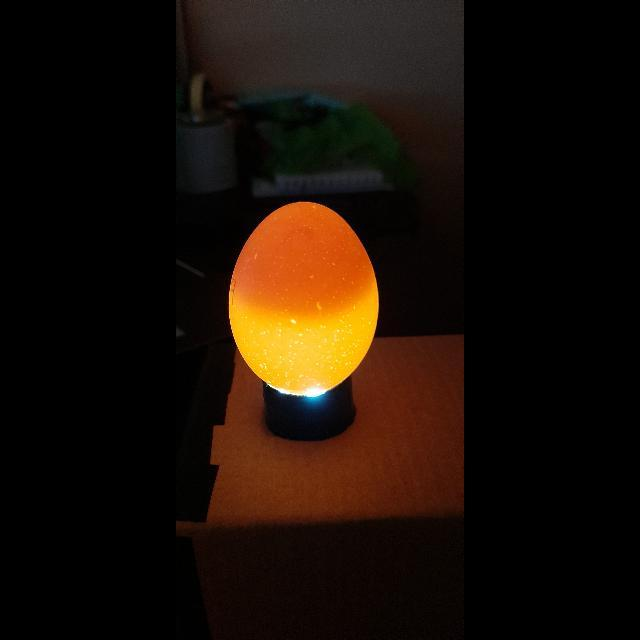Fertile: (228, 196, 376, 397)
